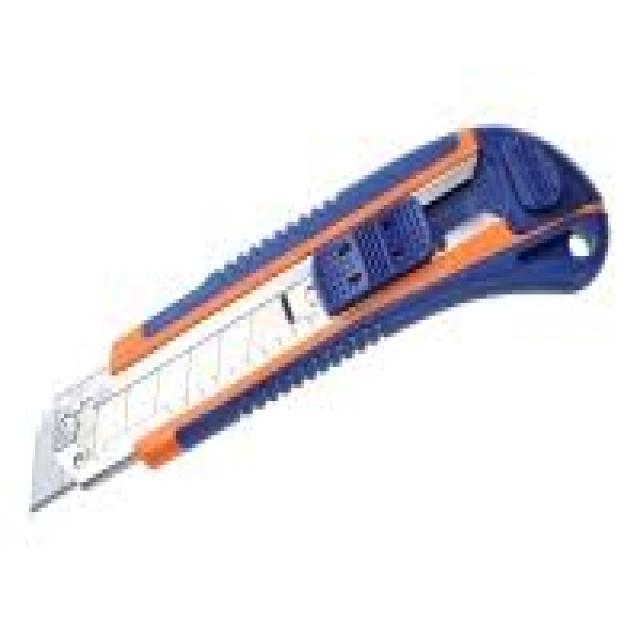cutter: (15, 113, 613, 518)
